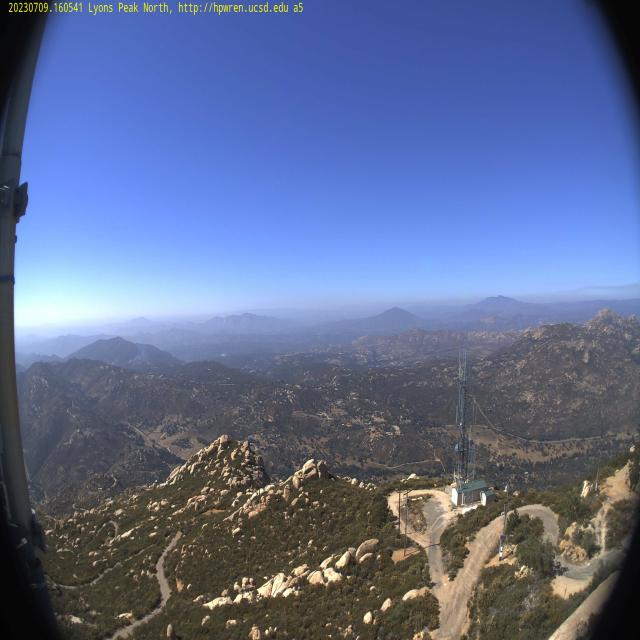smoke: (125, 340, 153, 366)
